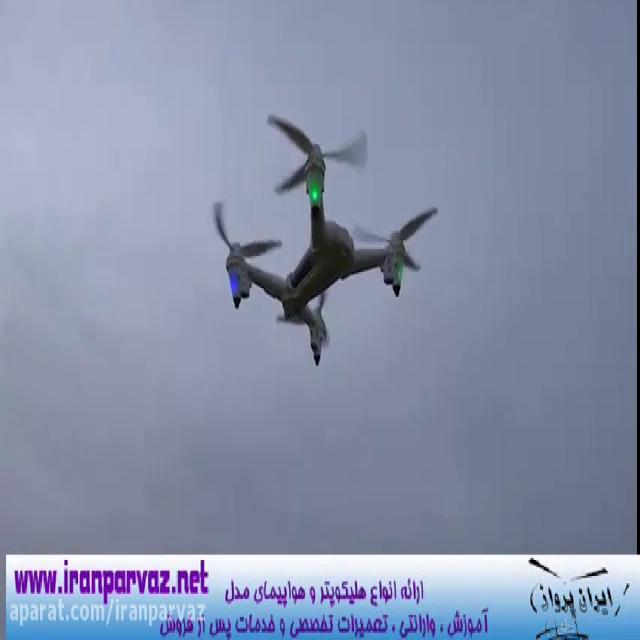drone: (209, 105, 442, 366)
